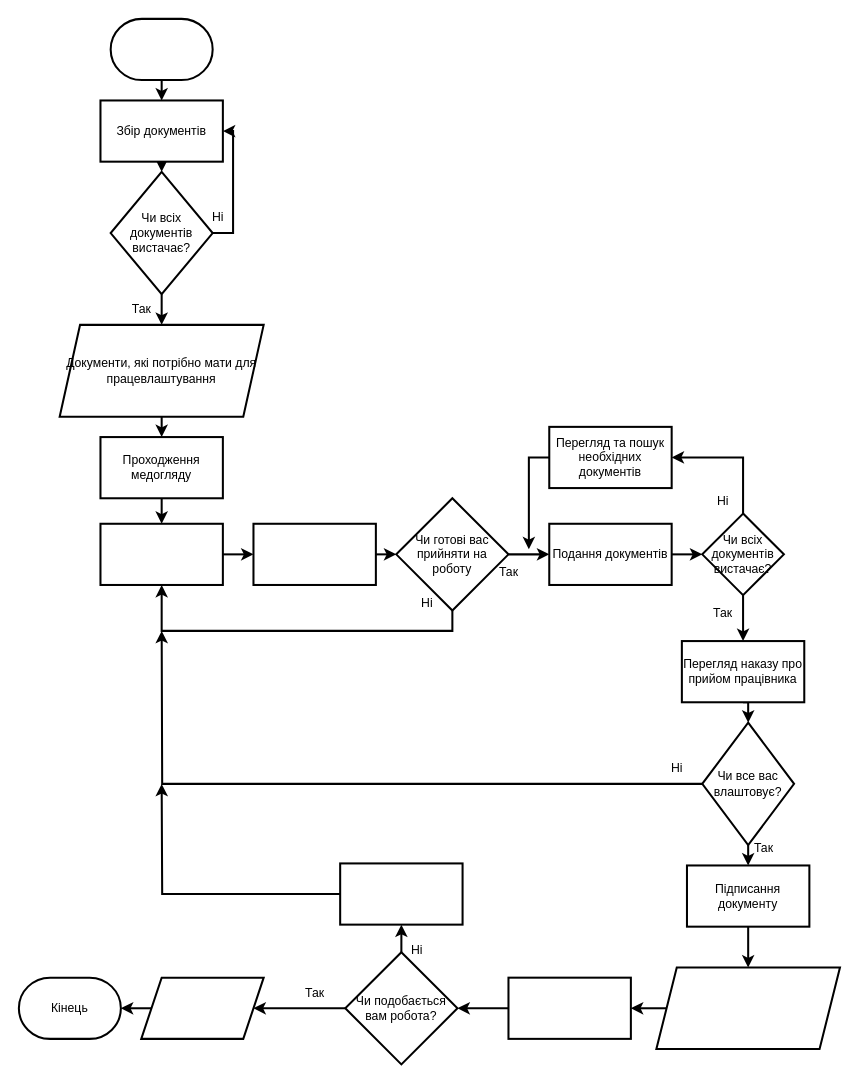
Some shapes in this 858 by 1082 pixel diagram are drawn without their labels. The box of each missing label's shape, as (x1, y1, x2, y2) in pixels:
Ви маєте роботу: (140, 976, 264, 1039)
Запис в трудовій книжці про працевлаштування: (507, 976, 631, 1039)
Звільнення: (339, 862, 463, 925)
Перелік відомостей, що є комерційною таємницею: (655, 966, 840, 1050)
Подання заяви та співбесіда: (252, 522, 376, 585)
Початок: (109, 17, 213, 81)
Пошук нової роботи: (99, 522, 223, 585)
